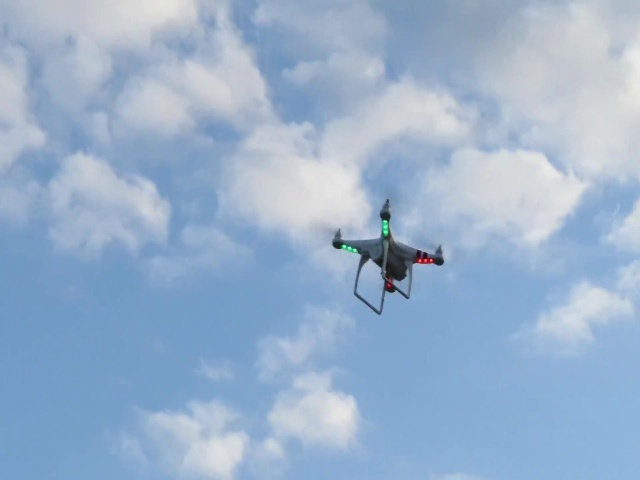drone: (321, 191, 451, 315)
